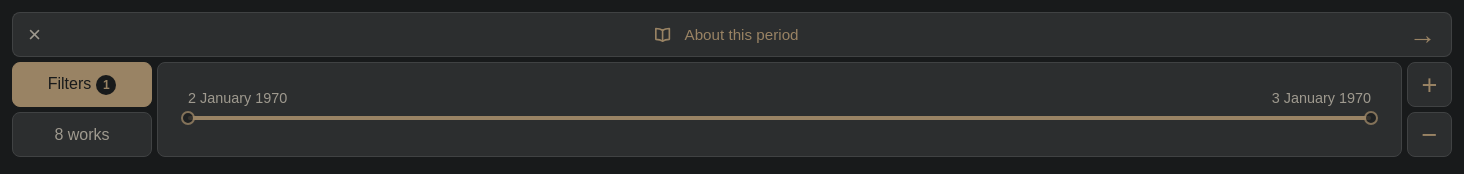
Test: MapControls › dismisses the related chapter card
The width and height of the screenshot is (1464, 174).
Click the button named "Close related chapter link" at (27,34), box top-left (12, 12), bottom-right (41, 57)
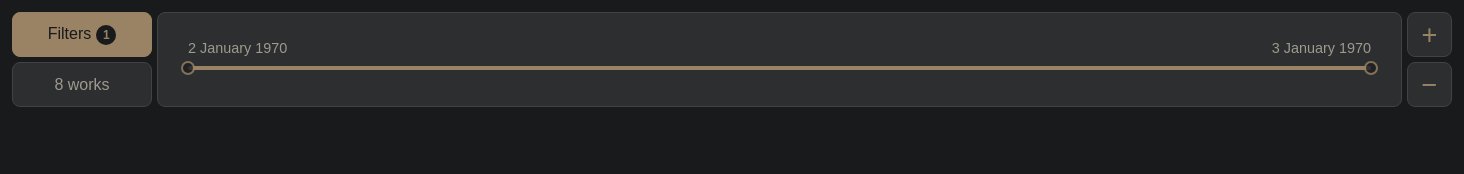
Now the link "About this period" is gone
